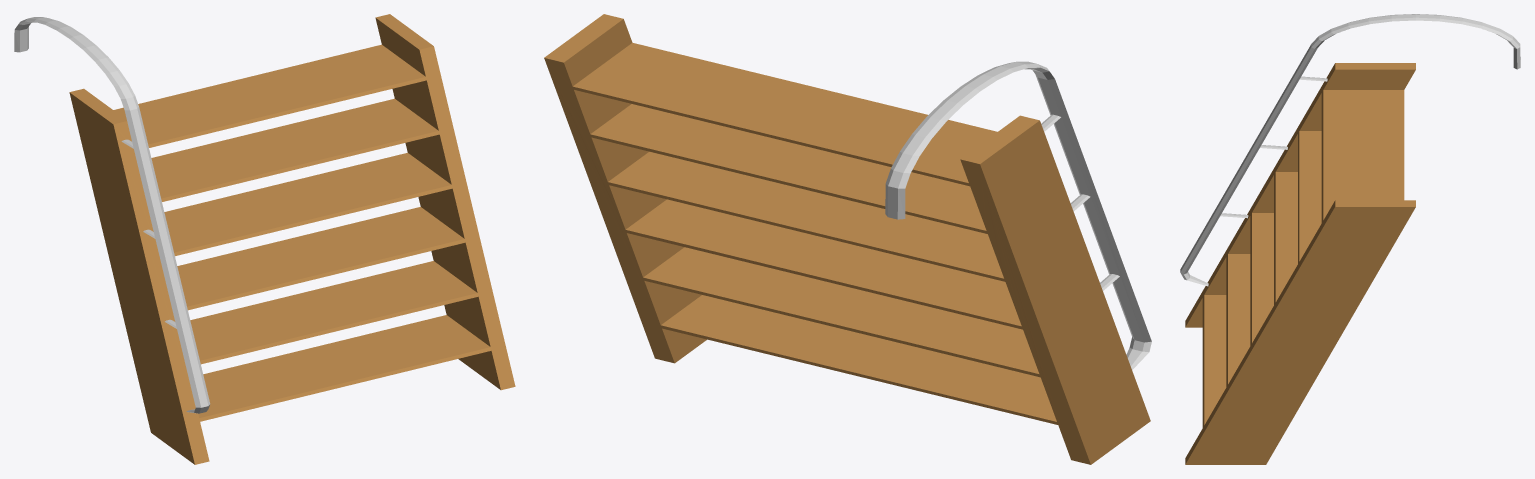
Rendered from sh-contrib-ladder-water.glb.
3 renders of one model, left to right at view 1: azimuth 30°, elevation 25°; view 2: azimuth 150°, elevation 25°; view 3: azimuth 270°, elevation 25°, orthographic. The views are drawn at different scales.
Parts seen in each view (by area): view 1: 6_6, 5_5; view 2: 6_6, 5_5; view 3: 6_6, 5_5.
Part boxes in pixels (x1,y1,x2,y2): 6_6: (69,14,515,464); 5_5: (14,17,210,413); 6_6: (544,14,1150,464); 5_5: (885,61,1151,369); 6_6: (1185,63,1415,464); 5_5: (1180,14,1520,286).
Size of the model in its own units: 1 by 1 by 1.
